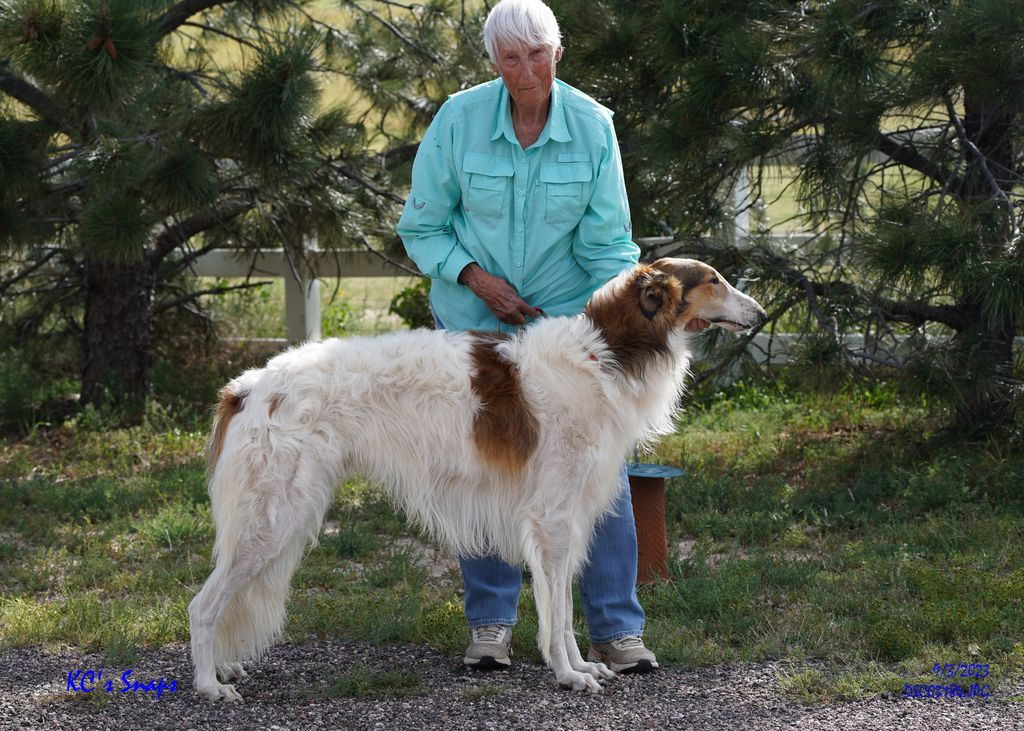borzoi: (186, 241, 820, 701)
